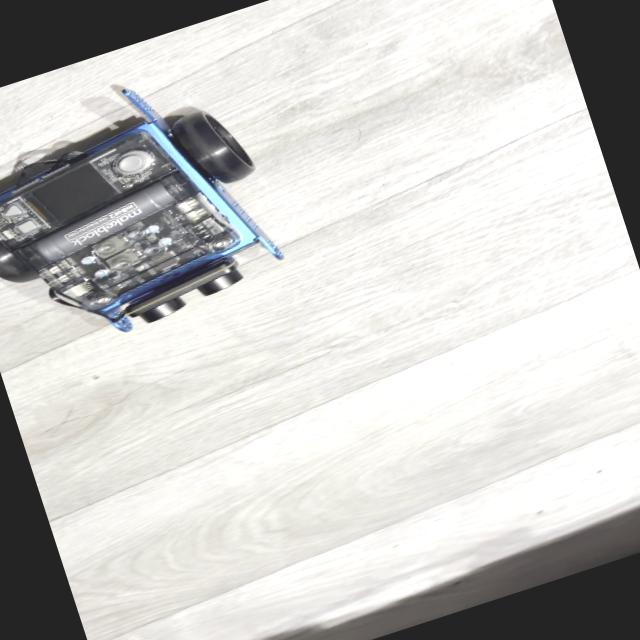mbot-detection: (0, 38, 319, 382)
